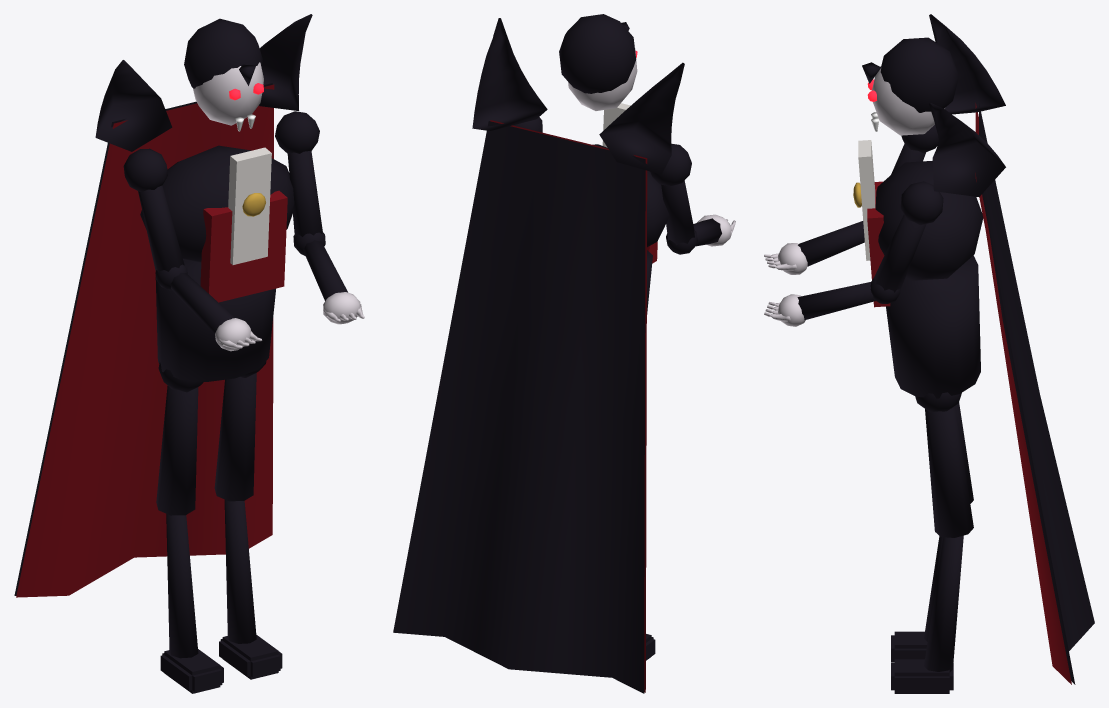
Rendered from gothic-vampire.glb.
3 renders of one model, left to right at view 1: azimuth 30°, elevation 25°; view 2: azimuth 150°, elevation 25°; view 3: azimuth 270°, elevation 25°, orthographic. The views are drawn at different scales.
Visible parts, largest first — view 1: Body Mesh, Head Mesh, LegB 0 Knee Mesh, LegA 0 Knee Mesh, LegB 0 Mesh, LegA 0 Mesh, ArmR Mesh, ArmL Mesh, ArmR Elbow Mesh, ArmL Elbow Mesh; view 2: Body Mesh, Head Mesh, ArmR Mesh, ArmR Elbow Mesh; view 3: Body Mesh, Head Mesh, LegA 0 Knee Mesh, LegA 0 Mesh, ArmL Mesh, ArmL Elbow Mesh, ArmR Elbow Mesh, LegB 0 Knee Mesh, ArmR Mesh.
Part boxes in pixels (x1,y1,x2,y2): Body Mesh: (14,14,312,597); Head Mesh: (184,18,263,131); LegB 0 Knee Mesh: (160,514,223,693); LegA 0 Knee Mesh: (219,500,282,679); LegB 0 Mesh: (156,361,203,515); LegA 0 Mesh: (214,361,266,501); ArmR Mesh: (123,148,184,272); ArmL Mesh: (275,111,322,236); ArmR Elbow Mesh: (155,264,262,351); ArmL Elbow Mesh: (293,232,364,324); Body Mesh: (393,18,684,693); Head Mesh: (559,14,637,110); ArmR Mesh: (650,143,694,245); ArmR Elbow Mesh: (666,214,735,254); Body Mesh: (853,14,1094,684); Head Mesh: (862,37,958,135); LegA 0 Knee Mesh: (891,535,963,693); LegA 0 Mesh: (915,392,973,537); ArmL Mesh: (874,181,943,292); ArmL Elbow Mesh: (764,278,900,326); ArmR Elbow Mesh: (764,221,864,274); LegB 0 Knee Mesh: (891,536,943,662); ArmR Mesh: (891,124,938,174).
Bounding box in the file's own units: 0.88 × 2.14 × 1.01.
